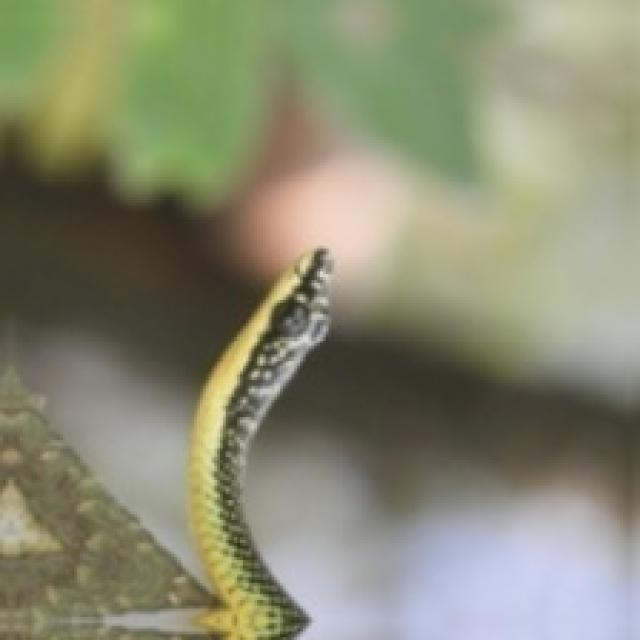paradise tree snake: (189, 248, 332, 640)
